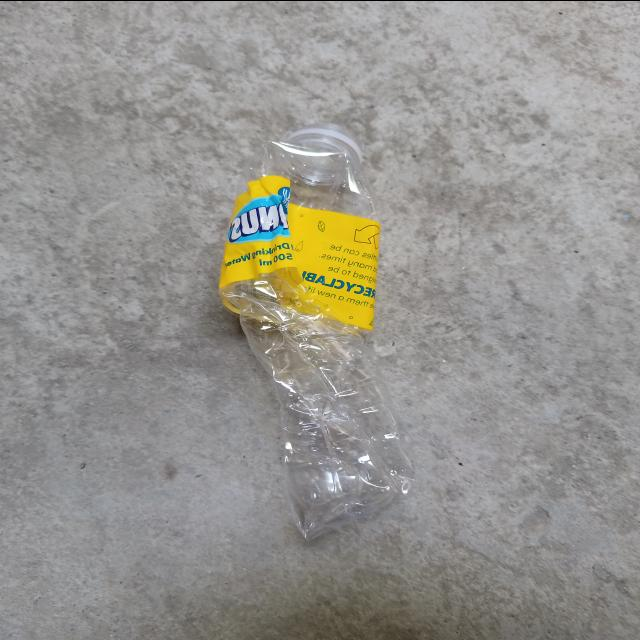Bottle: (219, 123, 413, 540)
